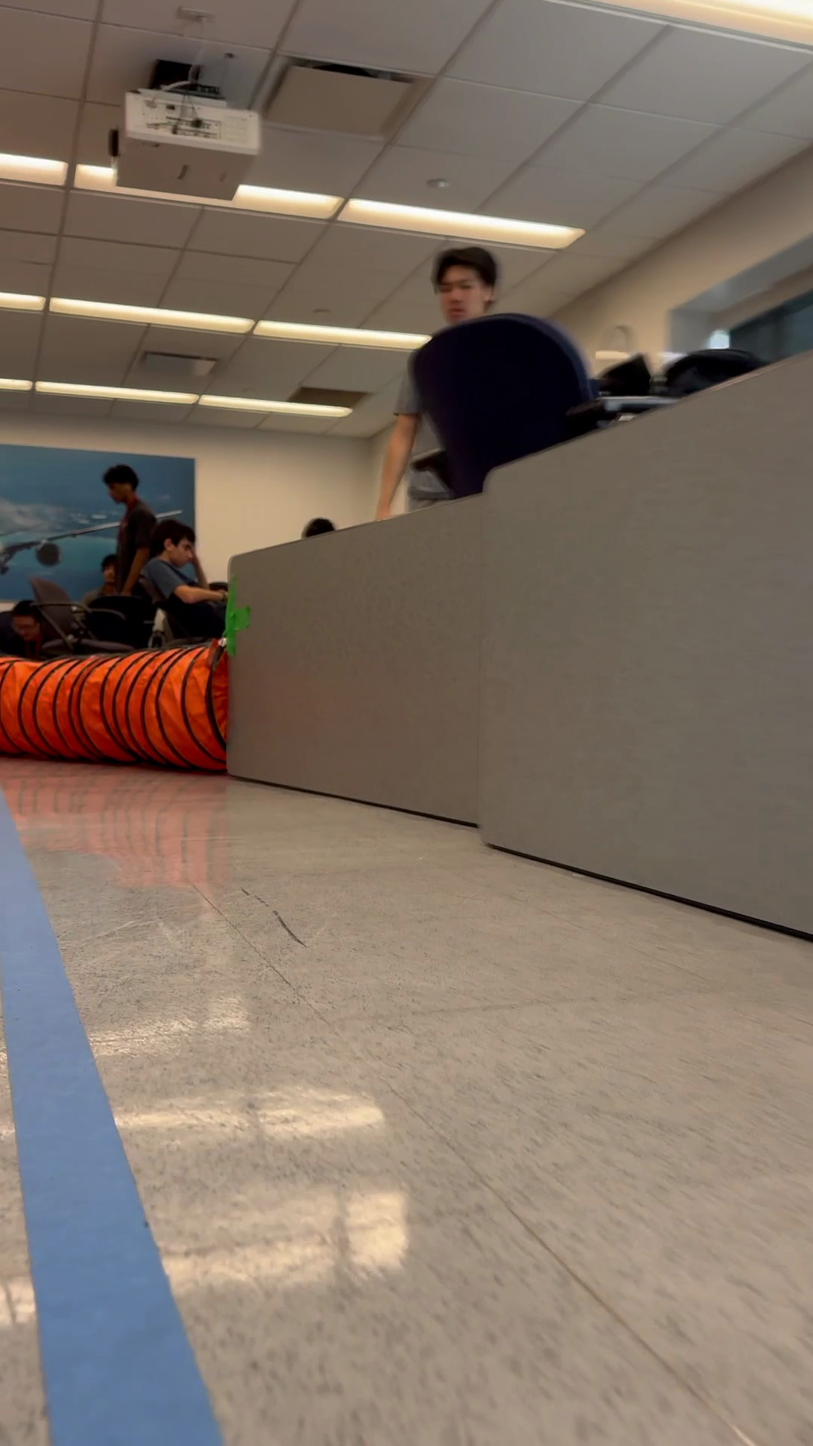racecar: (405, 309, 773, 504)
